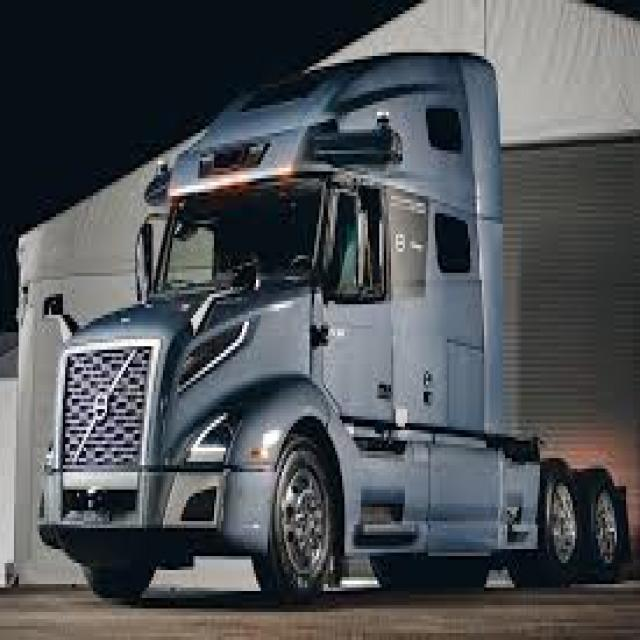truck: (26, 28, 636, 589)
